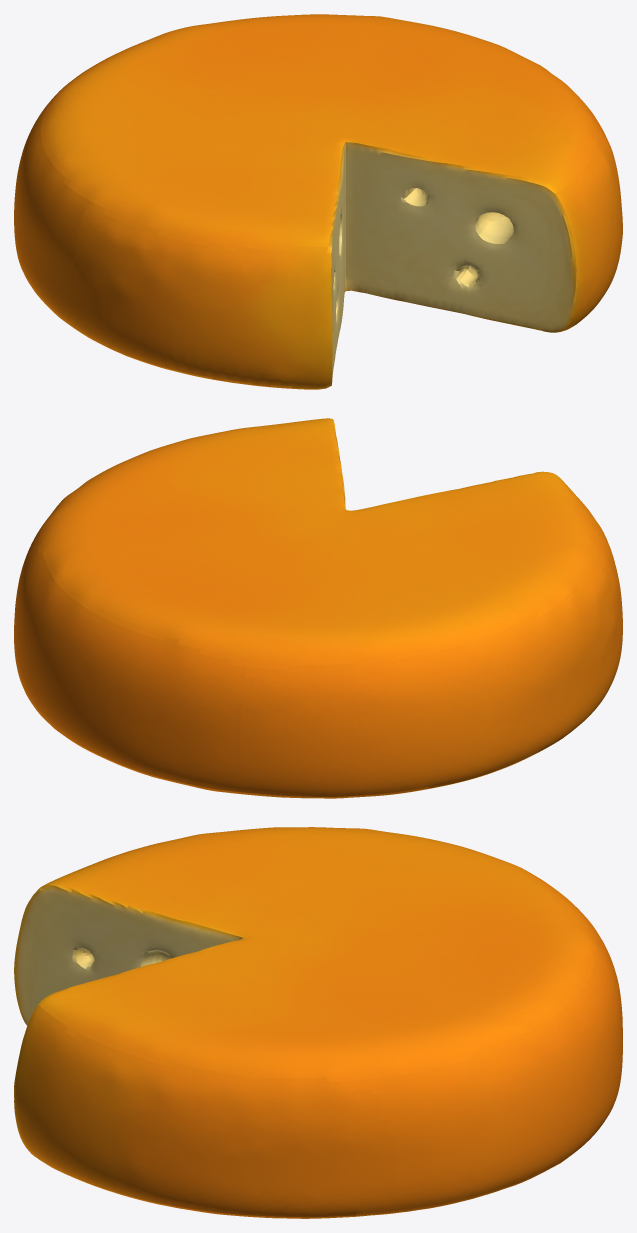
The model's file is cheese_wheel.glb.
3 views of the same model, one above another, from view 1: azimuth 30°, elevation 25°; view 2: azimuth 150°, elevation 25°; view 3: azimuth 270°, elevation 25° (orthographic). The views are drawn at different scales.
Visible parts, largest first — view 1: Mesh0; view 2: Mesh0; view 3: Mesh0.
Part boxes in pixels (x1,y1,x2,y2): Mesh0: (14, 14, 622, 389); Mesh0: (14, 418, 622, 798); Mesh0: (14, 827, 622, 1218).
Bounding box in the file's own units: 1.9 × 0.5353 × 1.84.
Materials: 1 (1 with a texture image).
